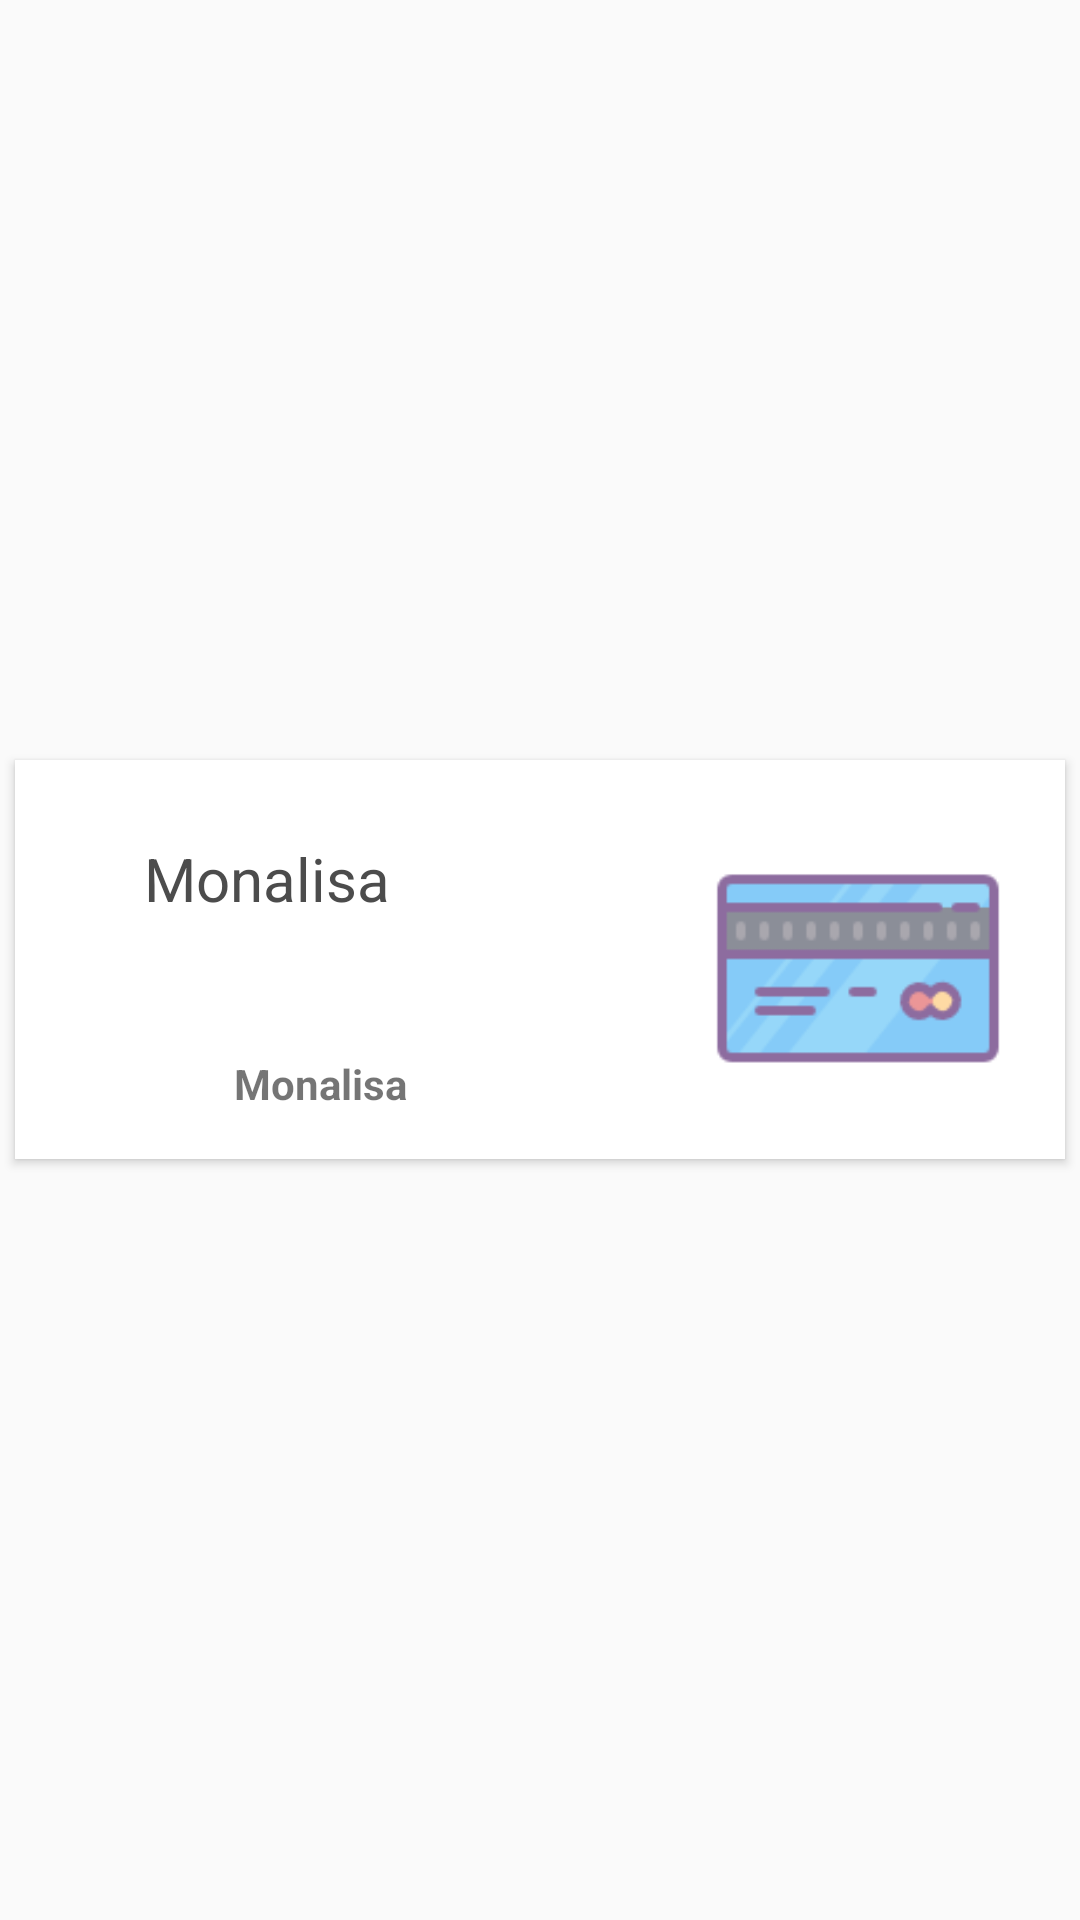

Where to tap for icons on this 1080×1920 app screen, as (x,y):
cardpay: (858,968)
